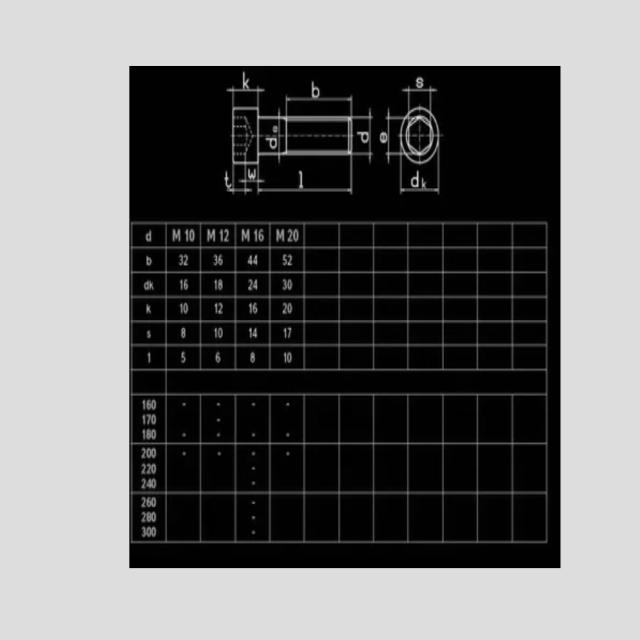marking_line: (224, 166, 355, 194), (257, 168, 354, 194), (397, 165, 444, 196), (285, 96, 353, 115), (354, 107, 375, 163), (385, 108, 401, 164), (224, 167, 252, 193), (402, 86, 437, 106), (240, 166, 264, 186)
numeric: (223, 228, 230, 243), (183, 276, 190, 290), (179, 325, 186, 339), (214, 352, 222, 364), (281, 302, 288, 315), (145, 525, 152, 538), (189, 228, 195, 243), (218, 253, 224, 267), (250, 350, 256, 364), (247, 254, 253, 268), (282, 253, 288, 267), (286, 352, 293, 364), (288, 227, 293, 243), (180, 351, 186, 364), (287, 303, 293, 316), (151, 398, 157, 411), (151, 447, 157, 460), (145, 429, 152, 440), (219, 228, 224, 243), (253, 228, 258, 243), (259, 228, 264, 243), (183, 254, 189, 266), (218, 278, 224, 290), (253, 328, 259, 340), (141, 463, 147, 475), (146, 496, 152, 508), (141, 511, 147, 523), (141, 525, 147, 537), (253, 253, 258, 267), (293, 230, 298, 244), (288, 253, 293, 267), (152, 524, 157, 538), (218, 327, 224, 338), (151, 414, 157, 425), (146, 478, 152, 489), (146, 512, 152, 523), (151, 511, 157, 522), (184, 302, 189, 315), (248, 302, 253, 315), (253, 302, 258, 315), (248, 278, 253, 291), (254, 278, 259, 291), (283, 278, 288, 291), (288, 278, 293, 291), (141, 446, 146, 459), (287, 326, 292, 338), (146, 447, 151, 459), (146, 463, 151, 475), (151, 462, 156, 474), (141, 479, 147, 489), (213, 255, 218, 266), (141, 497, 146, 508), (185, 229, 189, 242), (179, 254, 183, 267), (219, 302, 223, 315), (152, 428, 156, 441), (214, 327, 218, 339), (249, 328, 253, 340), (284, 327, 288, 339), (147, 399, 151, 411), (142, 414, 146, 426), (147, 413, 151, 425), (180, 277, 183, 292), (152, 478, 156, 489), (152, 497, 156, 508), (143, 399, 146, 413), (284, 351, 287, 364), (142, 428, 145, 441), (180, 303, 183, 315), (215, 302, 218, 314), (215, 279, 218, 290)
